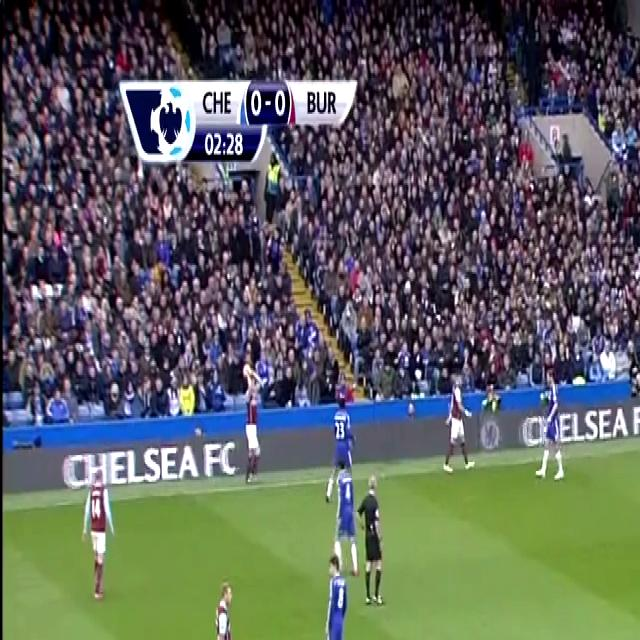soccer-player: (80, 458, 117, 610), (532, 359, 569, 488), (310, 538, 351, 640), (239, 356, 268, 500), (202, 570, 255, 640), (444, 365, 474, 488), (328, 389, 354, 508)
